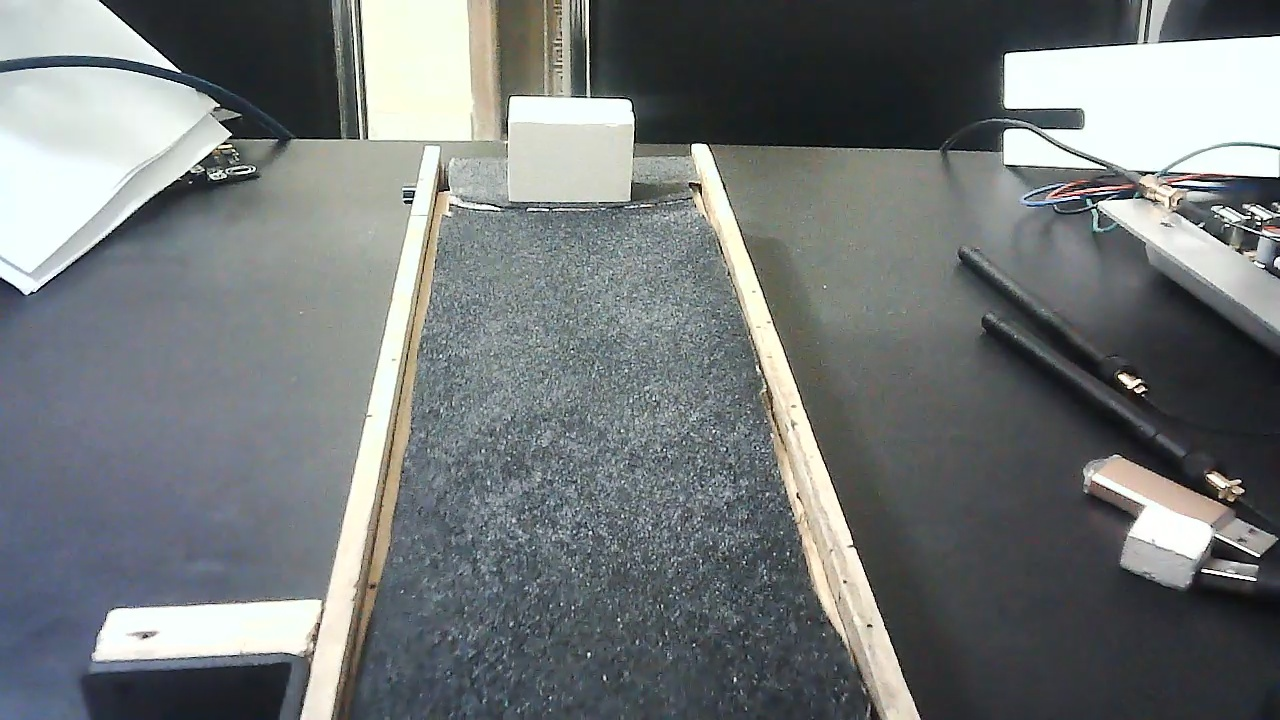BIG: (507, 90, 634, 217)
